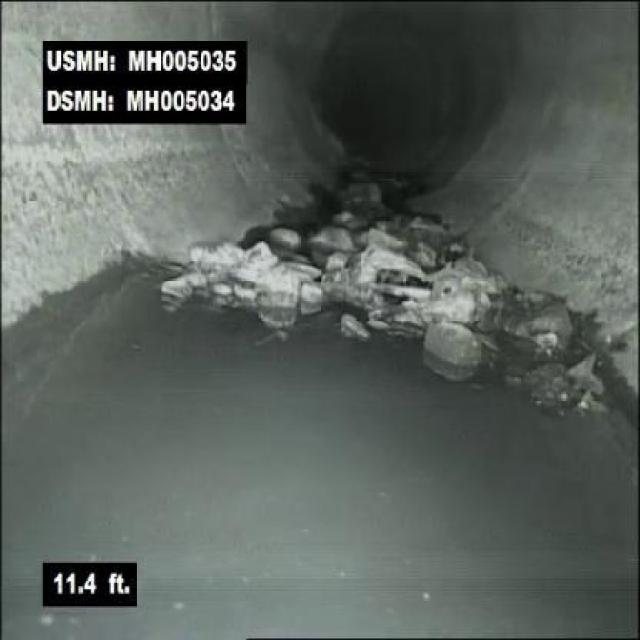Debris: (163, 194, 495, 361)
